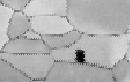good_void: (73, 48, 87, 65)
